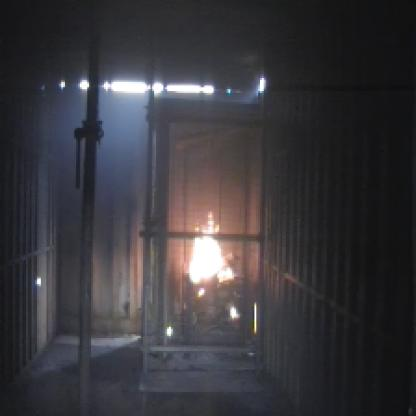Fire: (184, 215, 245, 316)
